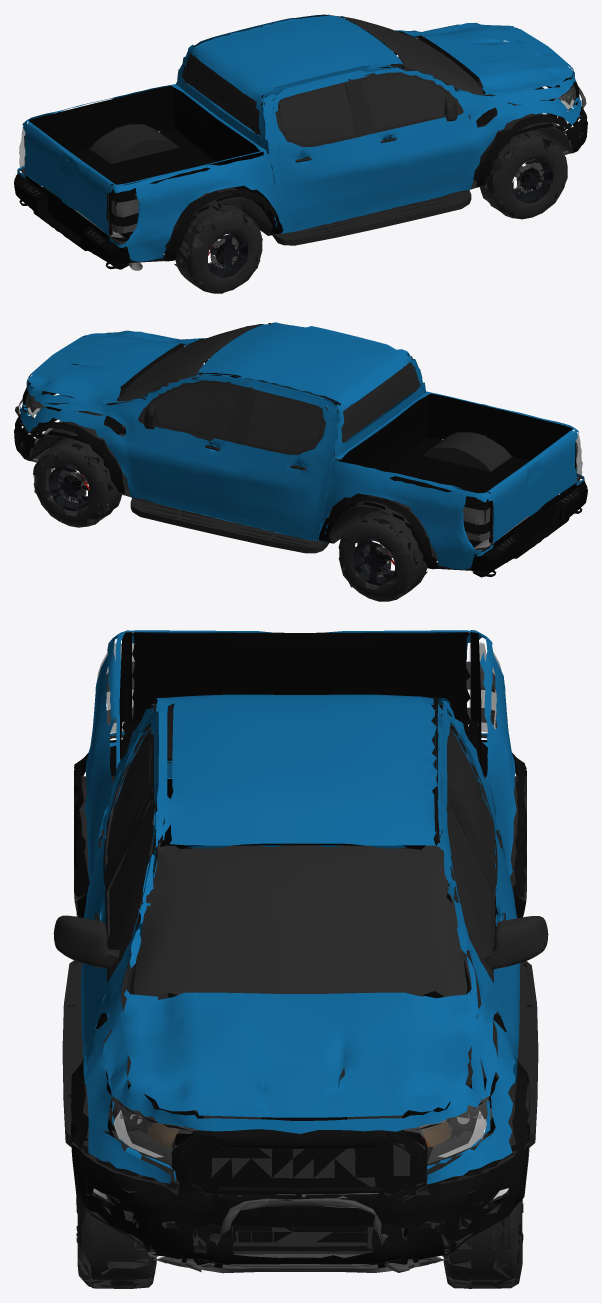
File: offroad.glb
3 renders of one model, top to bottom at view 1: azimuth 30°, elevation 25°; view 2: azimuth 150°, elevation 25°; view 3: azimuth 270°, elevation 25°, orthographic. The views are drawn at different scales.
Visible parts, largest first — view 1: car; view 2: car; view 3: car.
Boxes of the visible parts, box(x1,y1,x2,y2) form: car: box(14, 14, 587, 293); car: box(14, 322, 587, 601); car: box(53, 630, 548, 1288).
Bounding box in the file's own units: 5.21 × 1.74 × 2.2.
